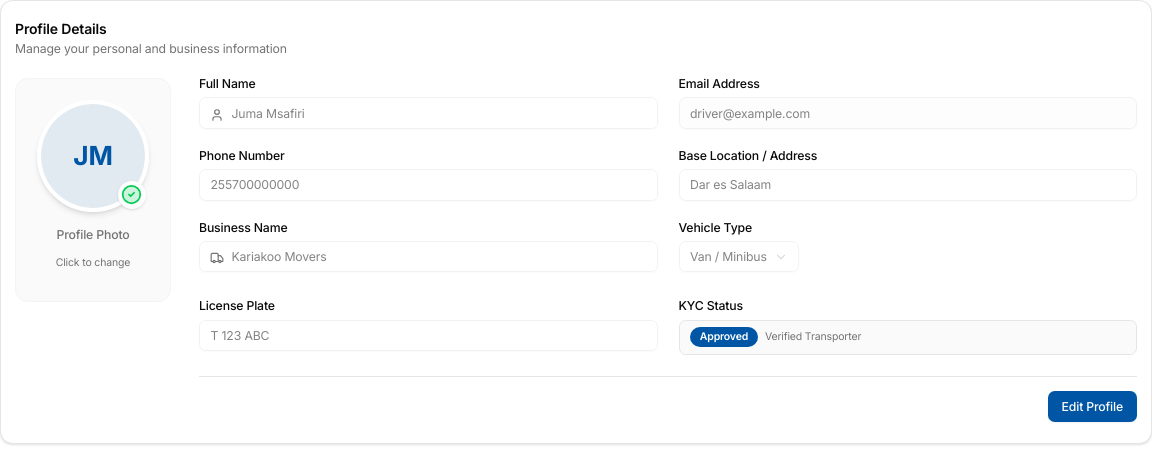
Test: TransporterProfileTab › exits edit mode without submitting when Cancel is clicked
Click the button "Edit Profile": (1092, 406) [1048,390,1137,422]
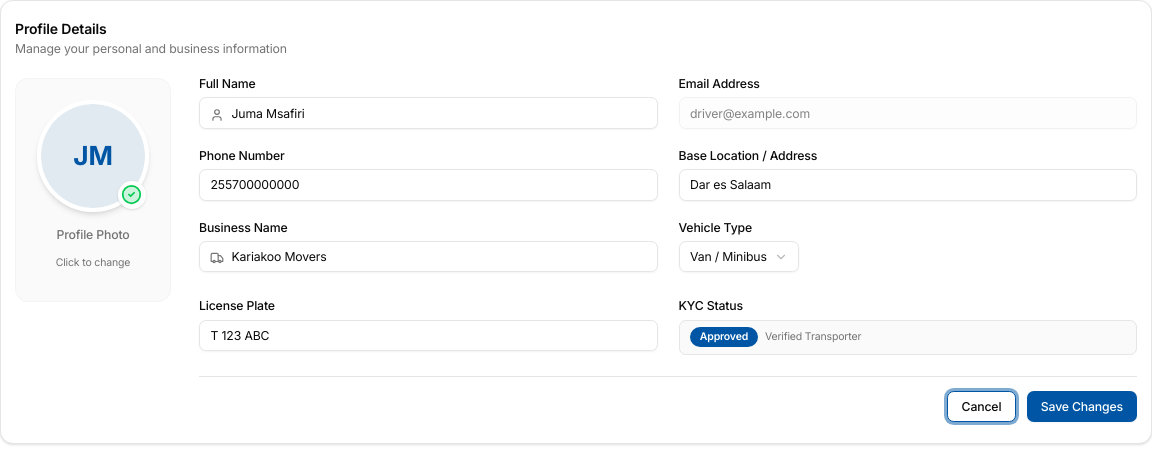
Replace the text in the field labelled "Full Name" with "Juma Kassim": (428, 113) [199,97,658,129]
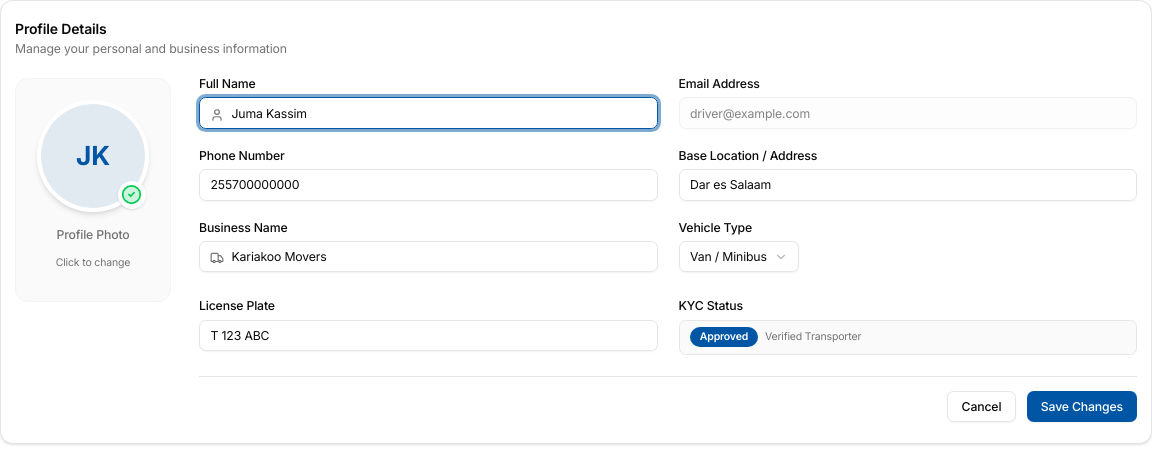
Click the button "Cancel": (982, 406) [947,390,1016,422]
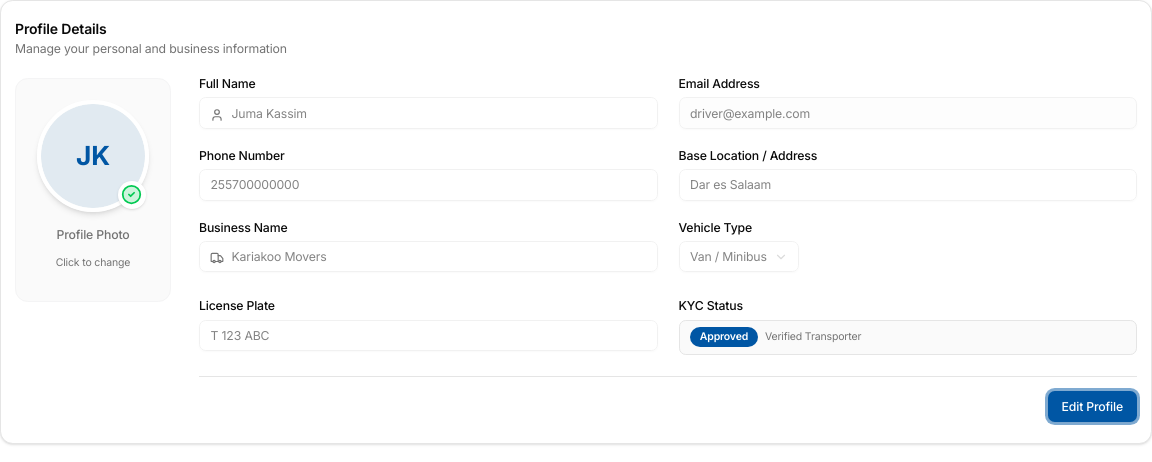
expect the button "Edit Profile" is shown: met, box [1048,390,1137,422]
expect the field labelled "Full Name" is disabled: met, box [199,97,658,129]
